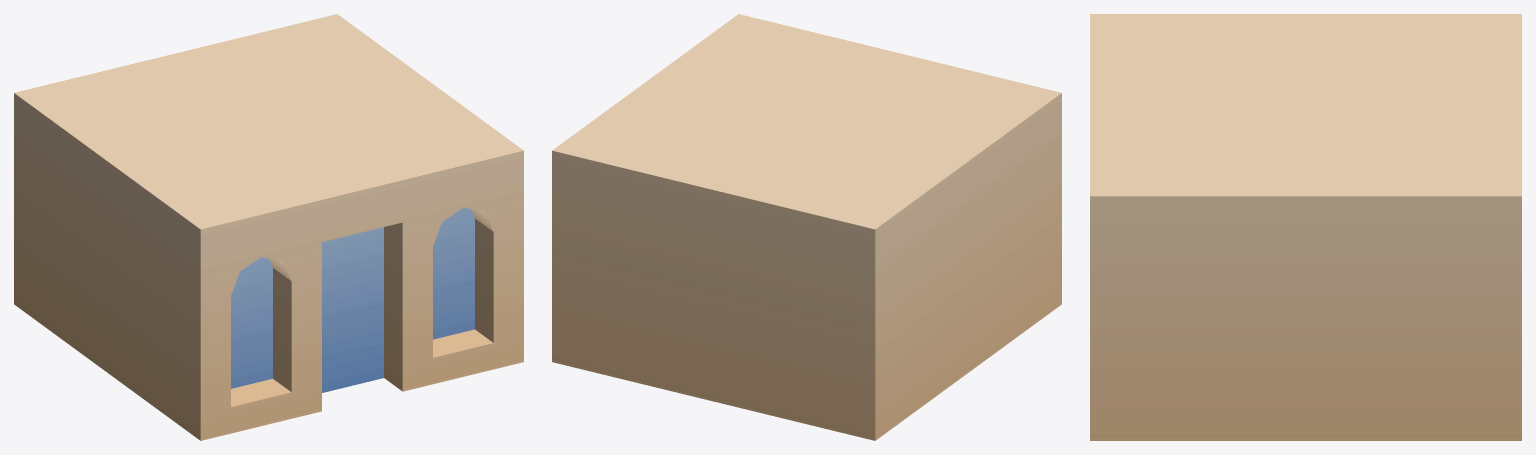
File: building-window-door-window-round.glb
3 renders of one model, left to right at view 1: azimuth 30°, elevation 25°; view 2: azimuth 150°, elevation 25°; view 3: azimuth 270°, elevation 25°, orthographic. The views are drawn at different scales.
Visible parts, largest first — view 1: building-window-door-window-round; view 2: building-window-door-window-round; view 3: building-window-door-window-round.
Boxes of the visible parts, bbox=[...] form: building-window-door-window-round: bbox=[14, 14, 523, 440]; building-window-door-window-round: bbox=[552, 14, 1061, 440]; building-window-door-window-round: bbox=[1090, 14, 1521, 440].
Size of the model in its own units: 1 by 0.625 by 1.
Materials: 1 (1 with a texture image).
